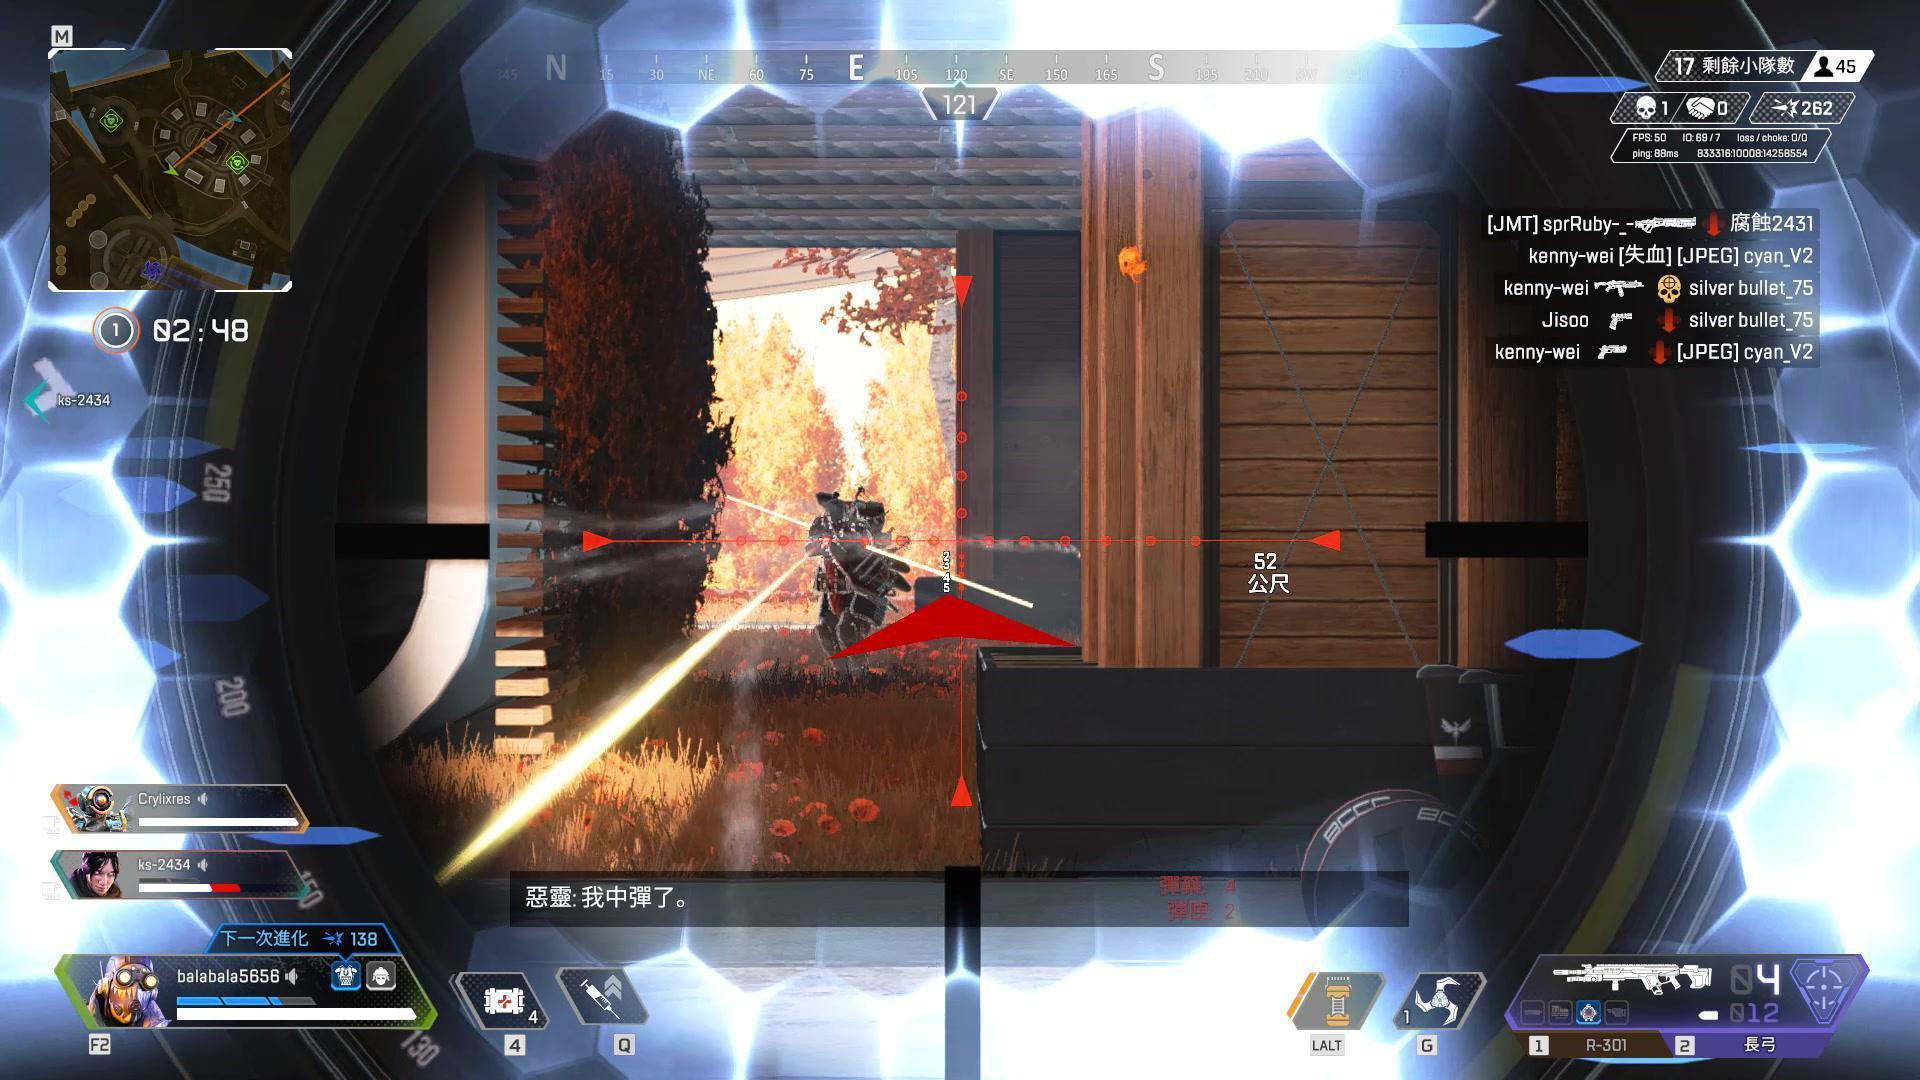avatar: (801, 487, 890, 664)
